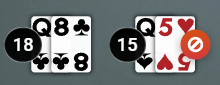5: (156, 15, 176, 40)
8: (51, 16, 73, 38)
q: (134, 16, 158, 40), (30, 15, 53, 39)
